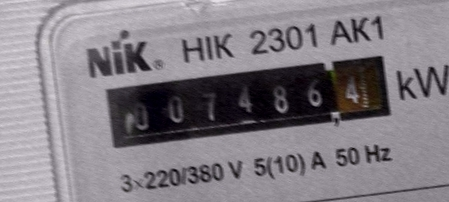0: (128, 98, 152, 134), (165, 91, 187, 126)
4: (233, 80, 255, 117), (341, 72, 362, 107)
6: (304, 76, 327, 110)
7: (196, 88, 223, 123)
8: (270, 81, 291, 118)
screen: (95, 42, 401, 162)
